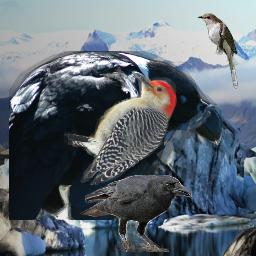Crow: (9, 51, 226, 220), (80, 175, 192, 252)
Cuckoo: (197, 13, 238, 89)
Woodpecker: (64, 73, 177, 185)
